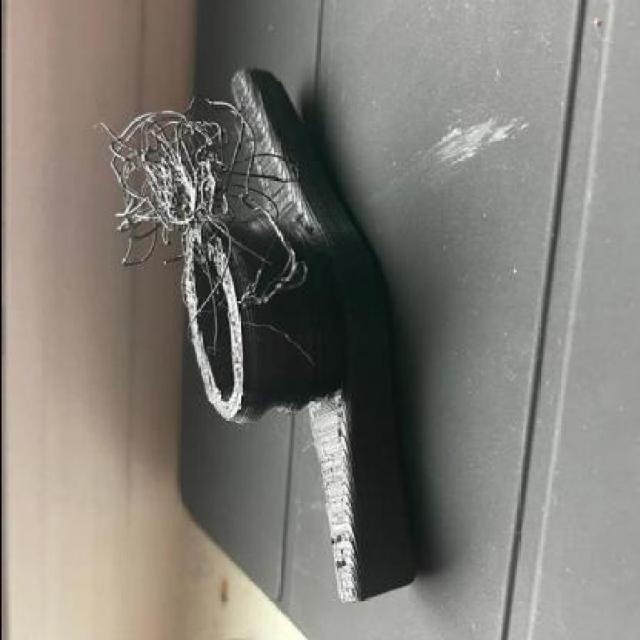spaghetti: (87, 93, 310, 307), (236, 317, 315, 368), (186, 304, 220, 350)
